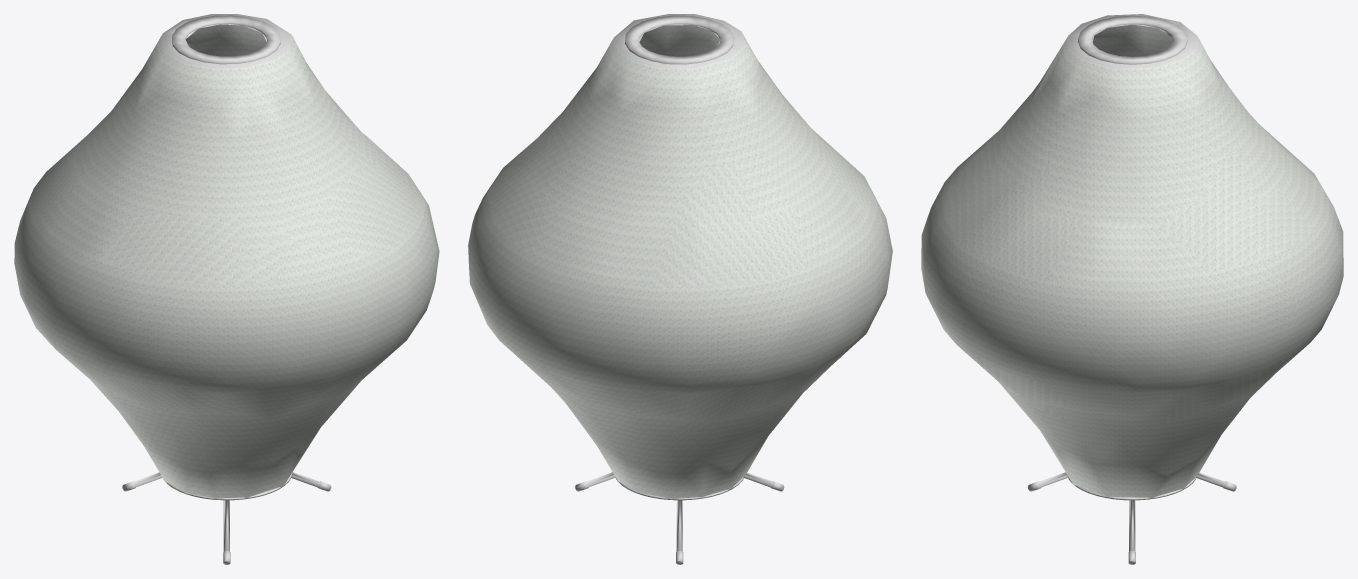
File: Lámpara de trípode Nelson Pear.glb
3 views of the same model, side by side, from view 1: azimuth 30°, elevation 25°; view 2: azimuth 150°, elevation 25°; view 3: azimuth 270°, elevation 25° (orthographic).
Parts seen in each view (by area): view 1: lampara; view 2: lampara; view 3: lampara.
Boxes of the visible parts, box(x1,y1,x2,y2) form: lampara: box(14, 14, 439, 564); lampara: box(468, 14, 892, 564); lampara: box(921, 14, 1343, 564).
Bounding box in the file's own units: 16.98 × 21.09 × 16.92.
2 materials, 2 textured.
